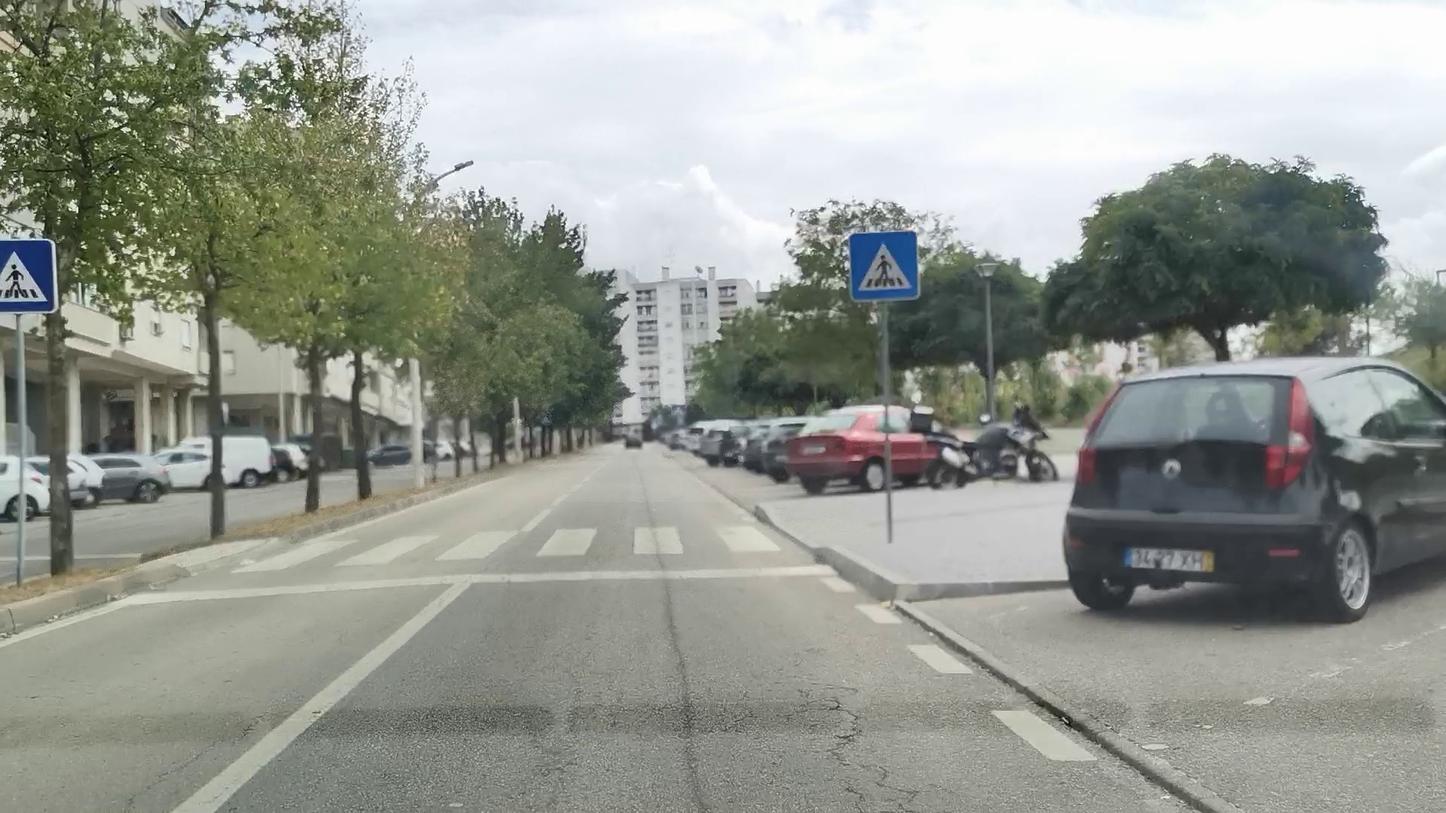Stairs: (235, 527, 788, 571)
